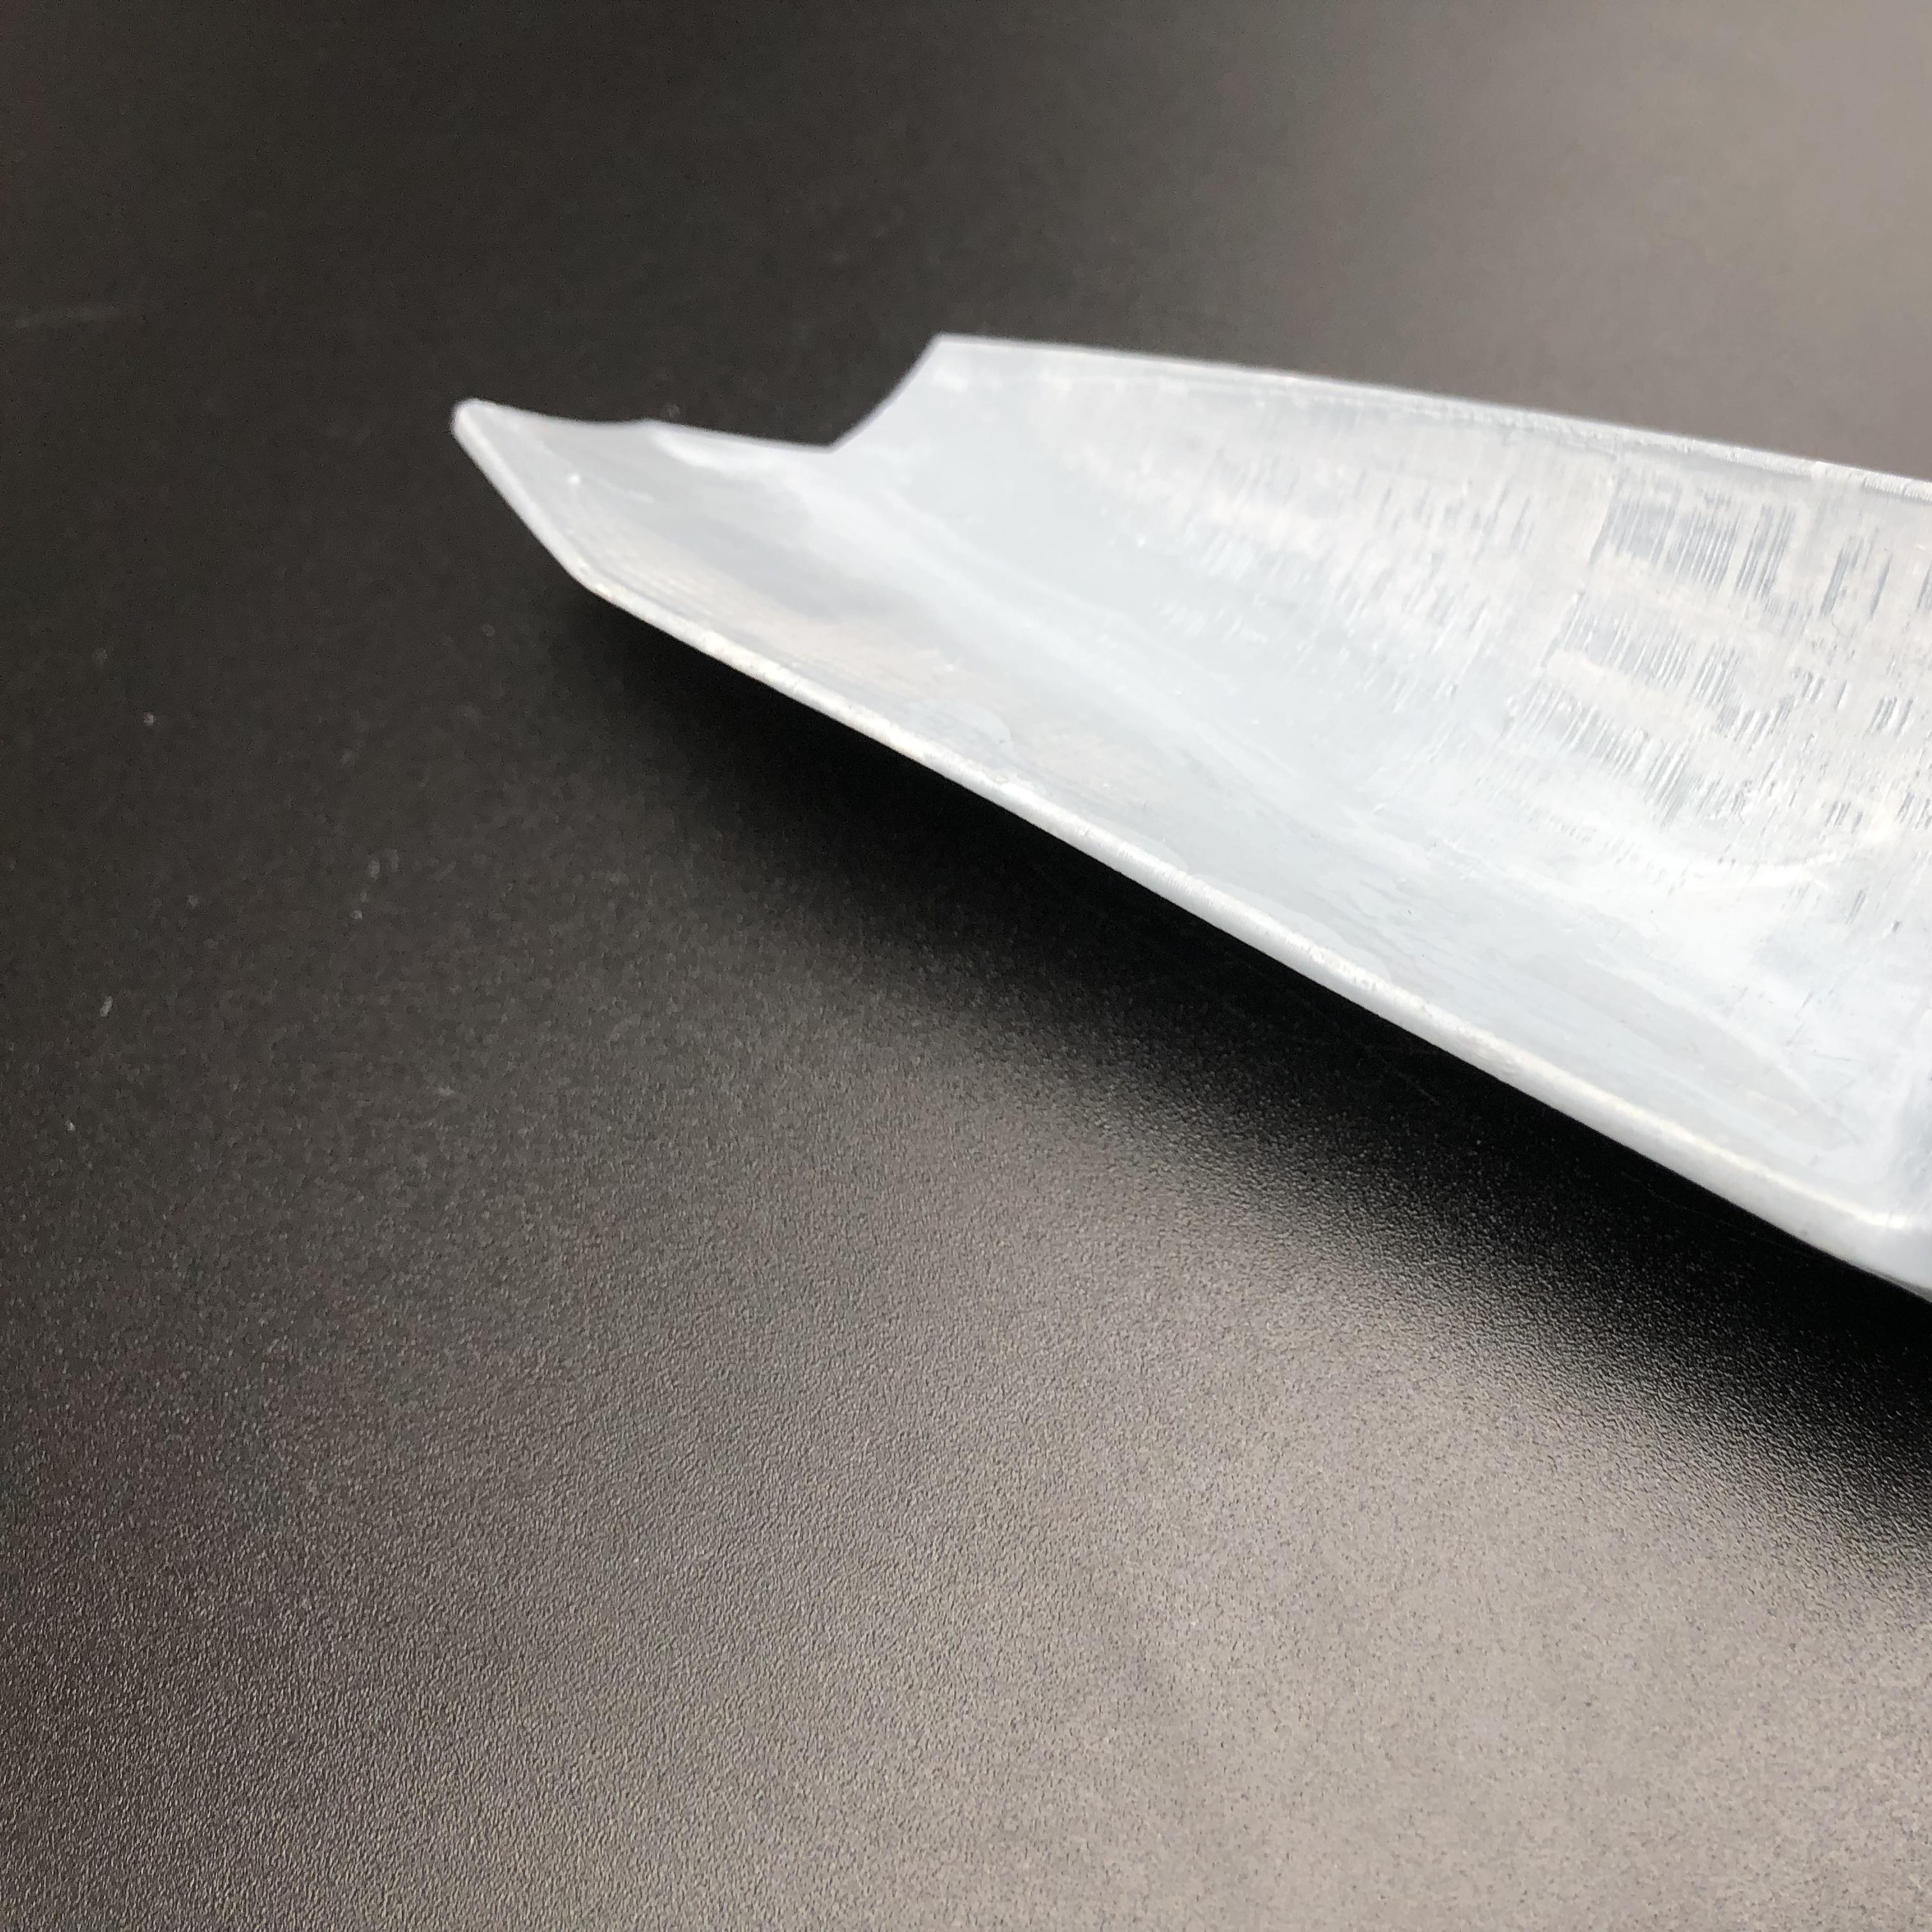fracture: (510, 345, 1001, 481)
